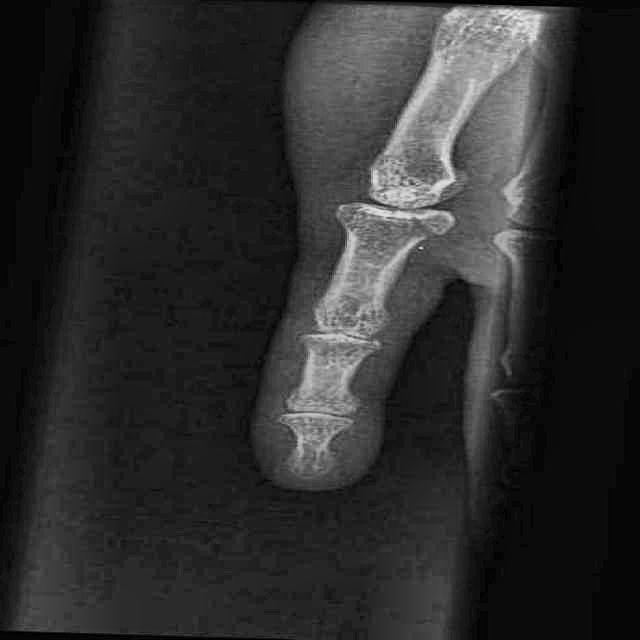Greenstick: (376, 175, 480, 245)
